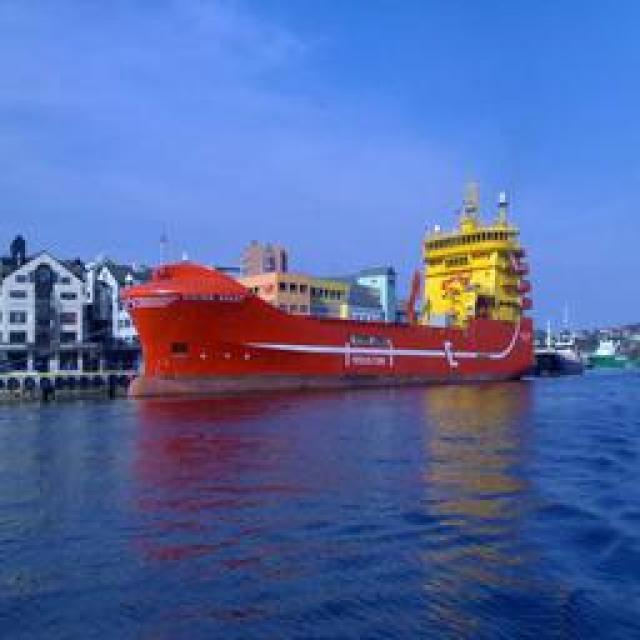CIV_Ship: (122, 245, 548, 383)
